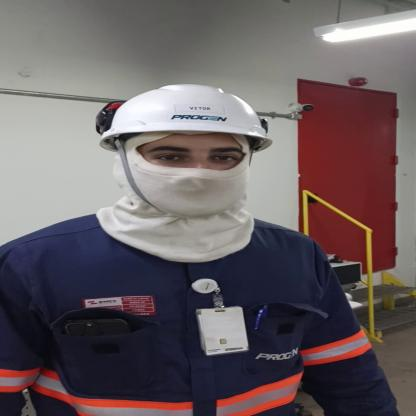Balaclava: (77, 134, 259, 263)
Capacete: (84, 80, 284, 150)
